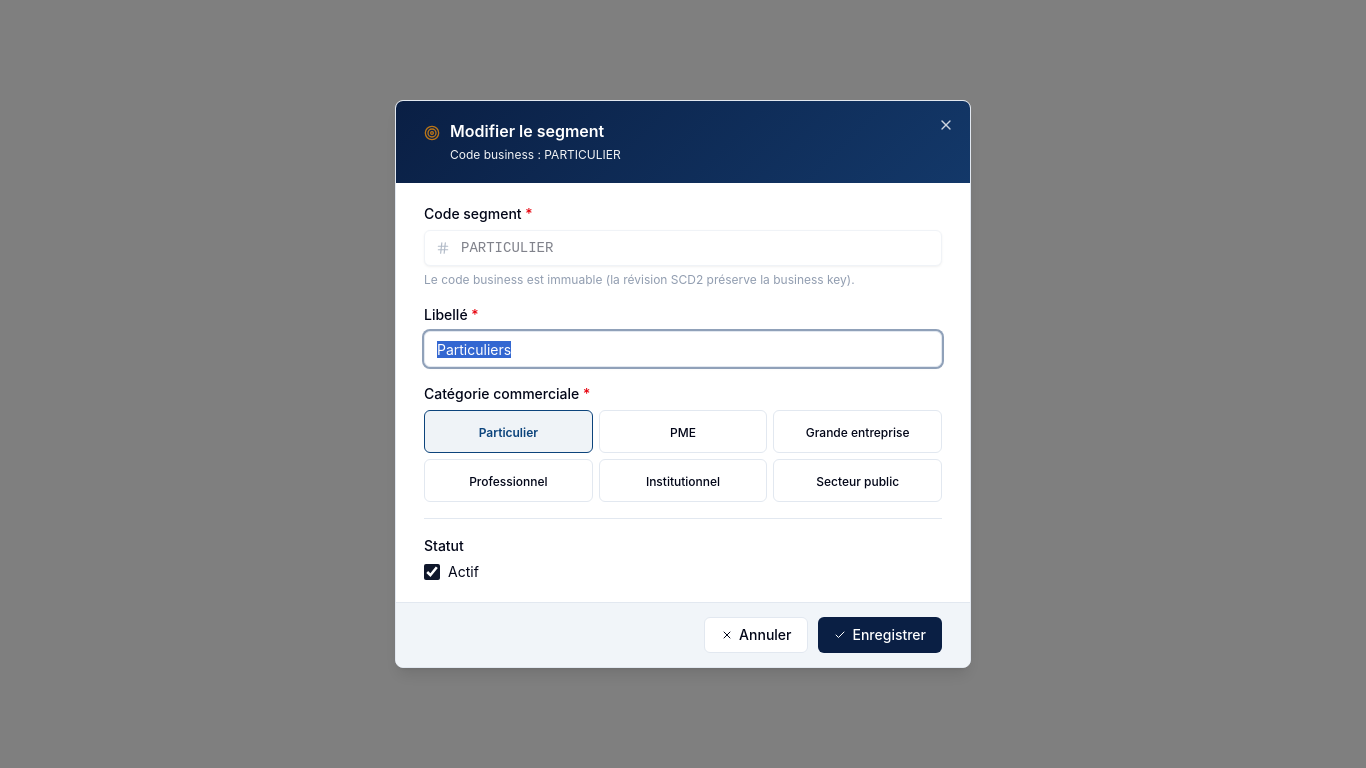
Test: SegmentFormDrawer › mode edit : bandeau jaune SCD2 si libellé modifié (version d'hier)
Replace the text in the field labelled "Libellé *" with "Particuliers (renommé)" at (683, 349), box [424, 331, 942, 367]
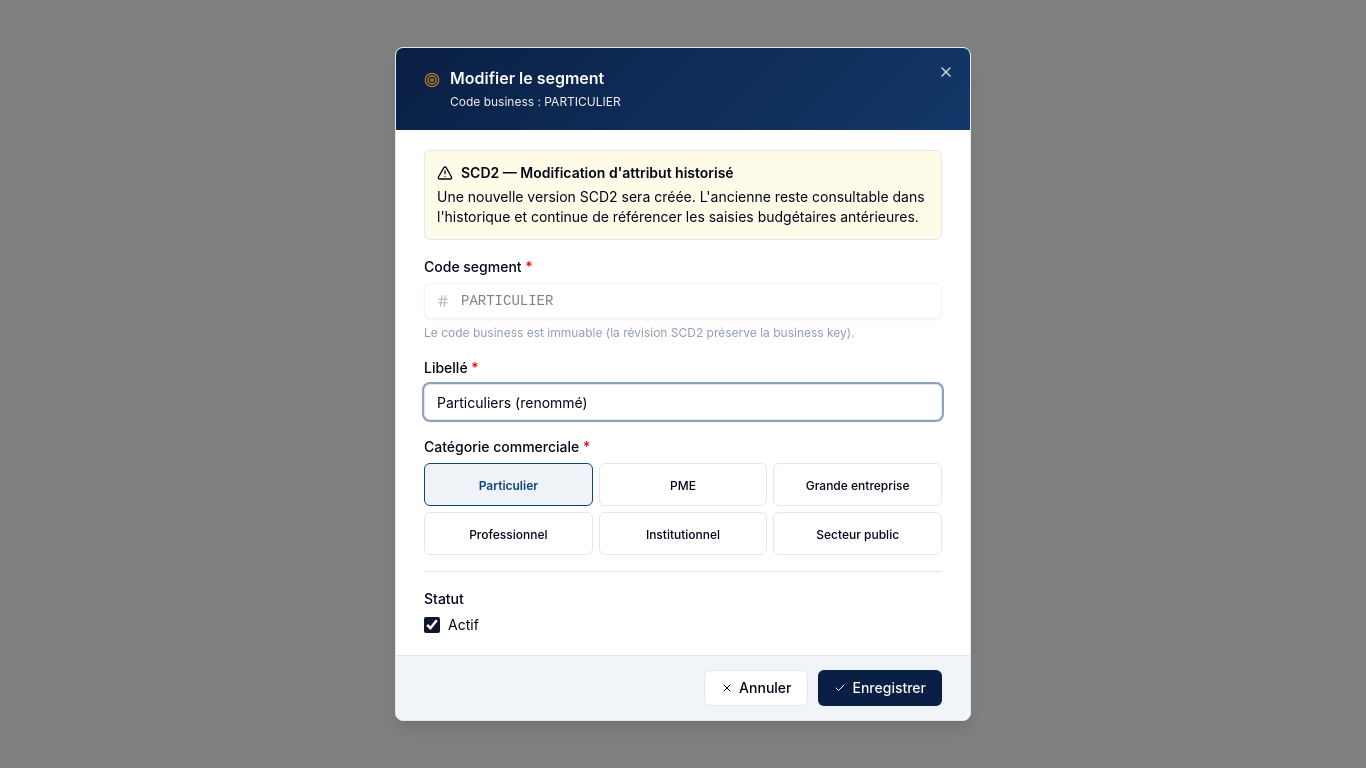
Expected: the text "SCD2 — Modification d'attribut historisé" is shown, [437, 164, 734, 181]
Expected: the text "Une nouvelle version SCD2 sera créée" is shown, [437, 188, 925, 225]
